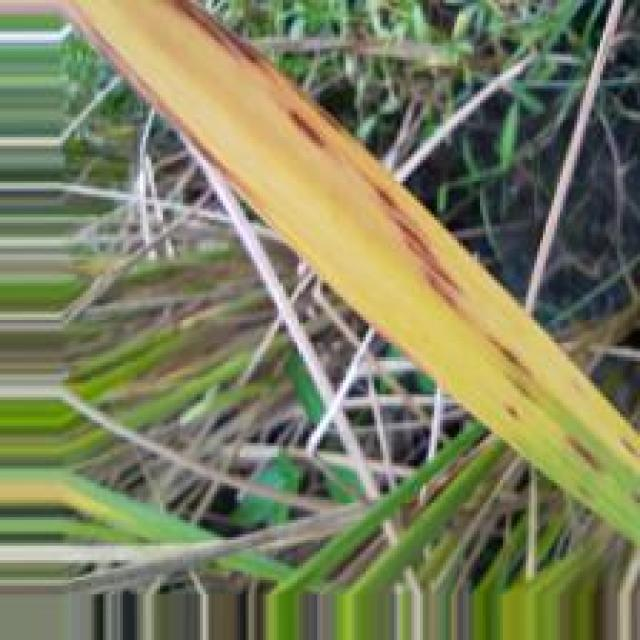Narrow_Brown_Leaf_Spot: (55, 0, 640, 475)
